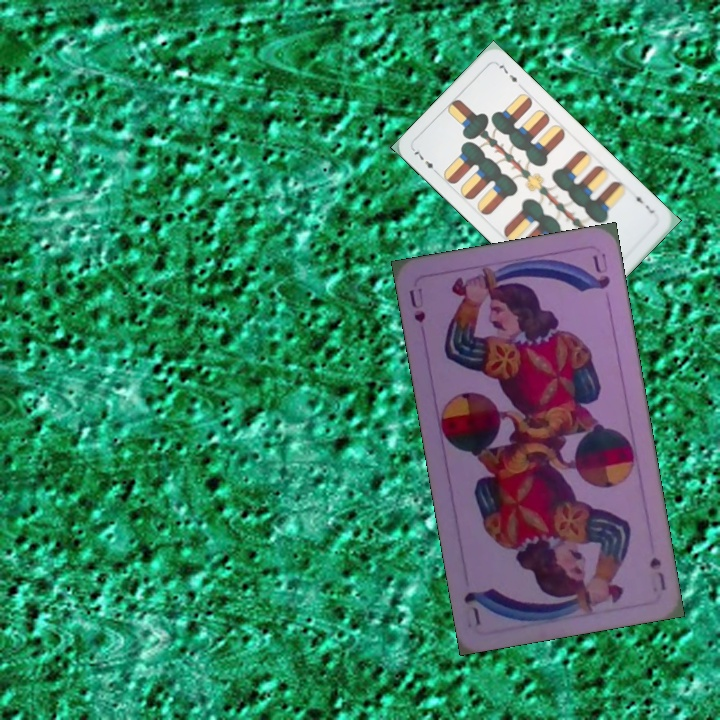E7: (409, 145, 442, 177), (630, 189, 657, 216)
SU: (405, 283, 428, 325), (645, 553, 668, 593)
